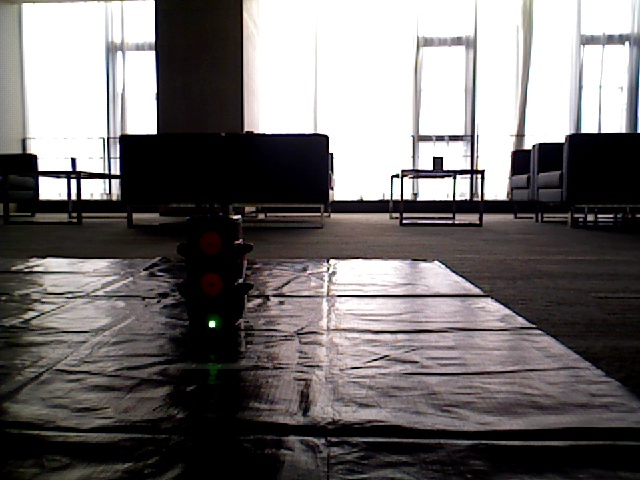green: (200, 221, 237, 333)
